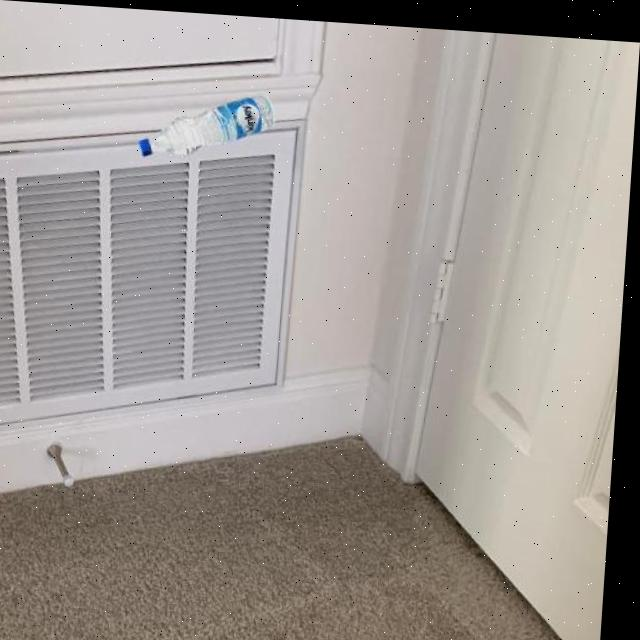bottle: (137, 81, 277, 162)
